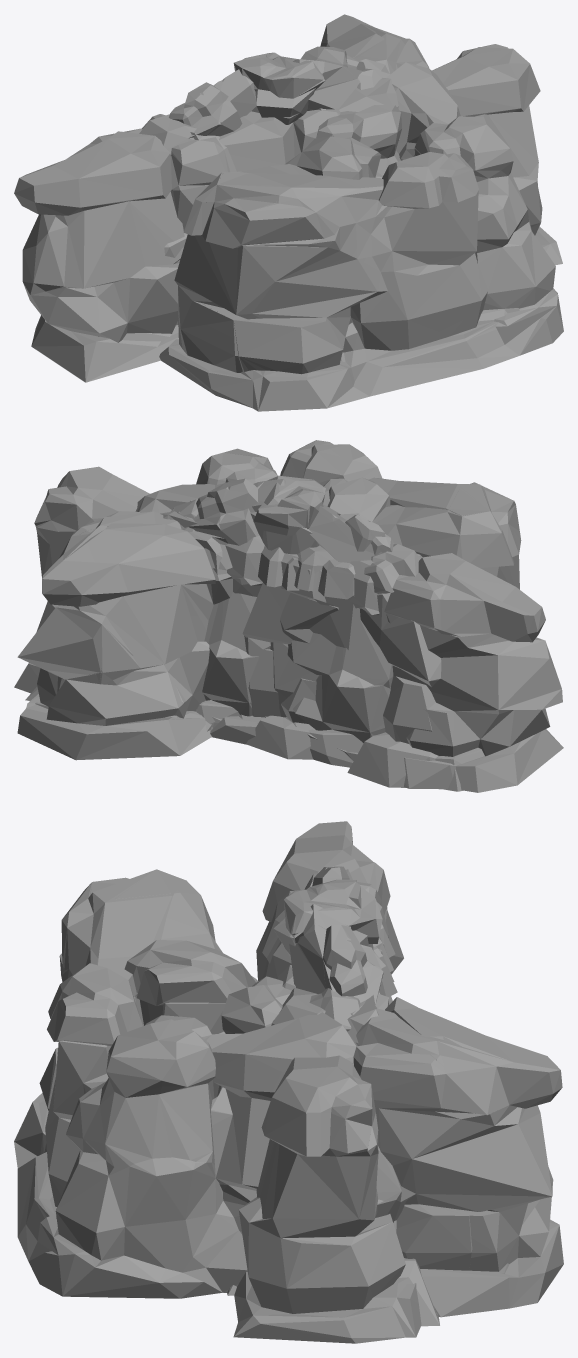
The model's file is rocks.fbx.
The picture shows the model from 3 angles, top to bottom: view 1: azimuth 30°, elevation 25°; view 2: azimuth 150°, elevation 25°; view 3: azimuth 270°, elevation 25°; orthographic projection. The views are drawn at different scales.
Visible parts, largest first — view 1: rockform.corner.hard.light, rockform.wall.long.light, rockform.corner.soft.light, rockform.arch.light, rockform.wall.short2.light, rockform.wall.short1.light; view 2: rockform.wall.long.light, rockform.corner.soft.light, rockform.arch.light, rockform.corner.hard.light, rockform.wall.short2.light, rockform.wall.short1.light, rockform.column.light; view 3: rockform.corner.hard.light, rockform.wall.long.light, rockform.corner.soft.light, rockform.arch.light, rockform.wall.short1.light, rockform.wall.short2.light.
Boxes of the visible parts, <box> form: rockform.corner.hard.light: <box>191,14,563,411</box>; rockform.wall.long.light: <box>14,44,562,382</box>; rockform.corner.soft.light: <box>159,14,402,411</box>; rockform.arch.light: <box>98,46,390,341</box>; rockform.wall.short2.light: <box>219,108,340,171</box>; rockform.wall.short1.light: <box>338,78,399,140</box>; rockform.wall.long.light: <box>14,466,563,792</box>; rockform.corner.soft.light: <box>17,477,519,760</box>; rockform.arch.light: <box>25,475,484,791</box>; rockform.corner.hard.light: <box>17,440,521,717</box>; rockform.wall.short2.light: <box>196,534,338,759</box>; rockform.wall.short1.light: <box>190,500,363,767</box>; rockform.column.light: <box>210,545,299,744</box>; rockform.corner.hard.light: <box>14,869,562,1314</box>; rockform.wall.long.light: <box>227,821,421,1343</box>; rockform.corner.soft.light: <box>14,869,563,1317</box>; rockform.arch.light: <box>273,866,439,1326</box>; rockform.wall.short1.light: <box>271,923,395,1025</box>; rockform.wall.short2.light: <box>265,941,385,995</box>.
Size of the model in its own units: 42.26 by 19.48 by 31.39.
